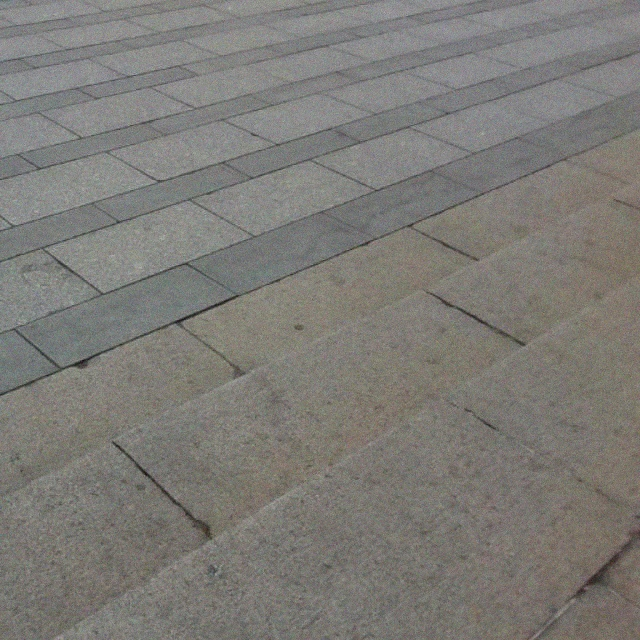stair: (23, 172, 630, 602)
